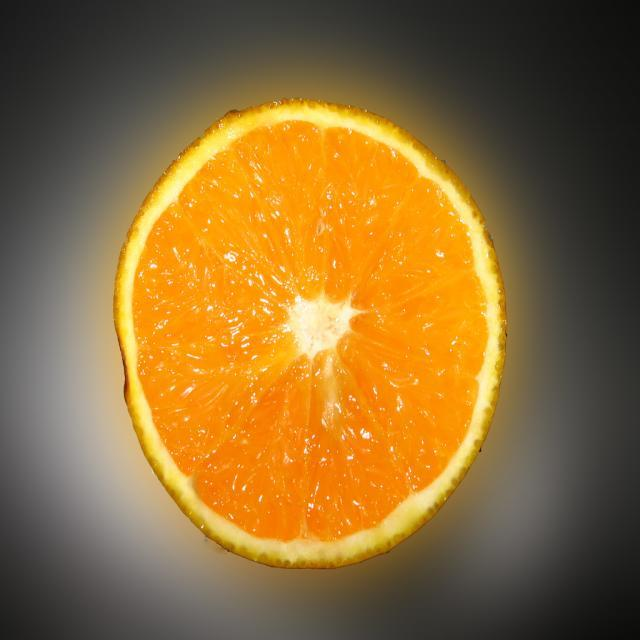Orange: (111, 93, 507, 569)
